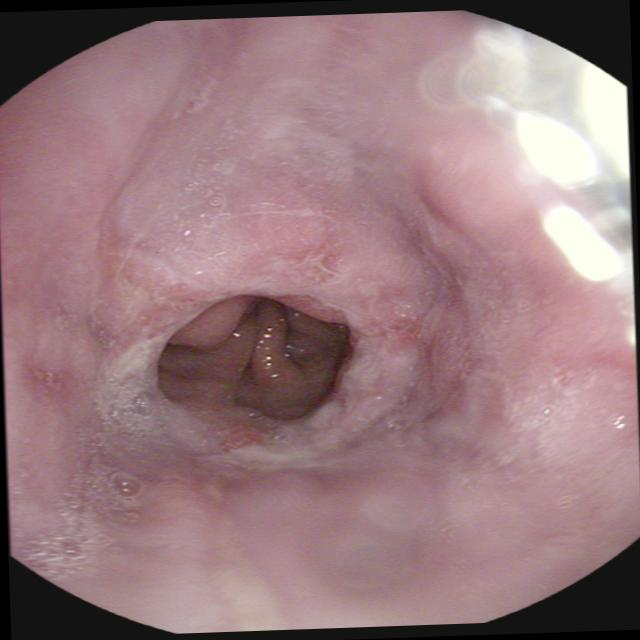esophagitis: (89, 164, 500, 508)
